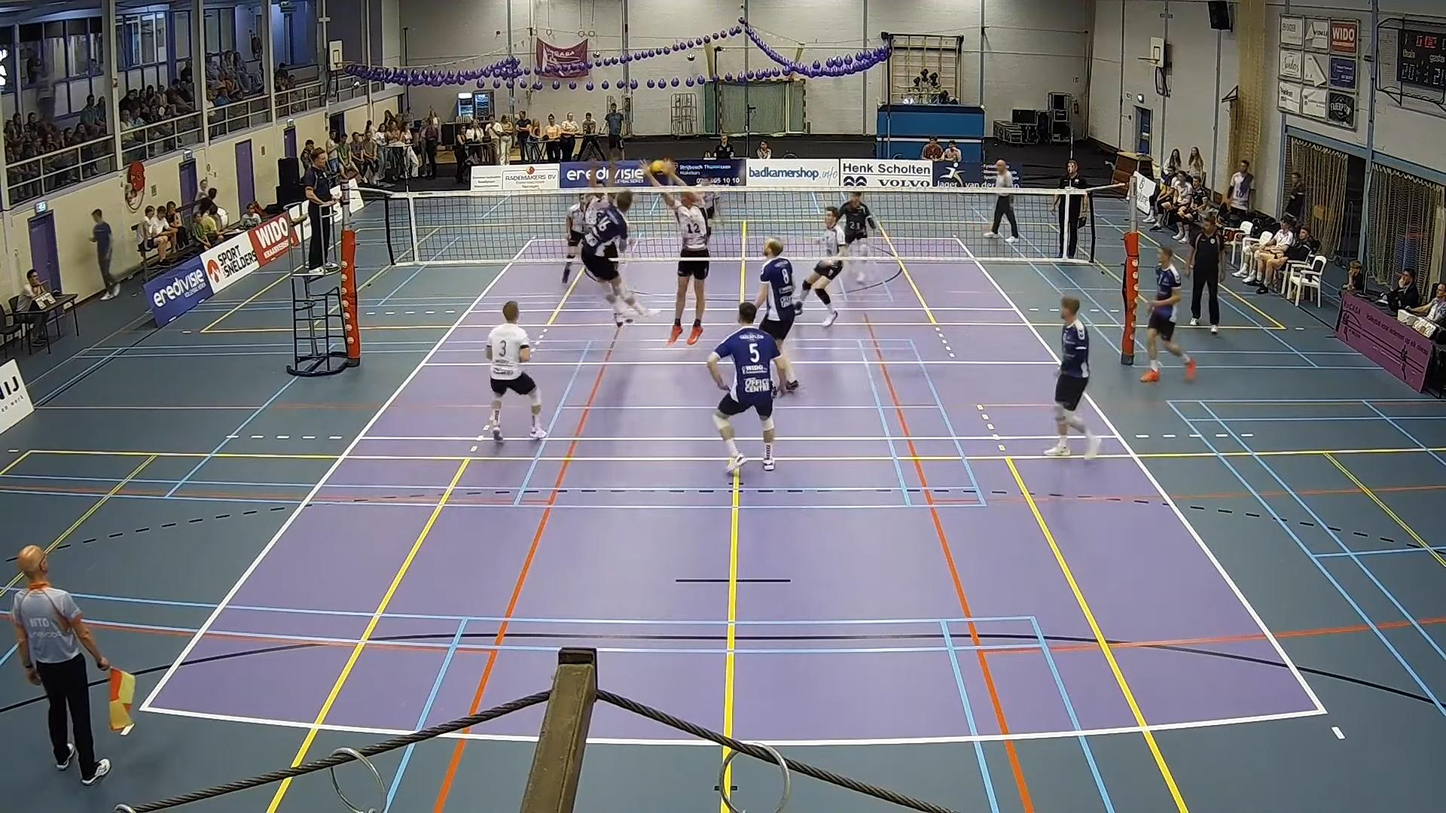attacco: (573, 182, 647, 324)
muro: (649, 159, 714, 352), (581, 152, 619, 219)
